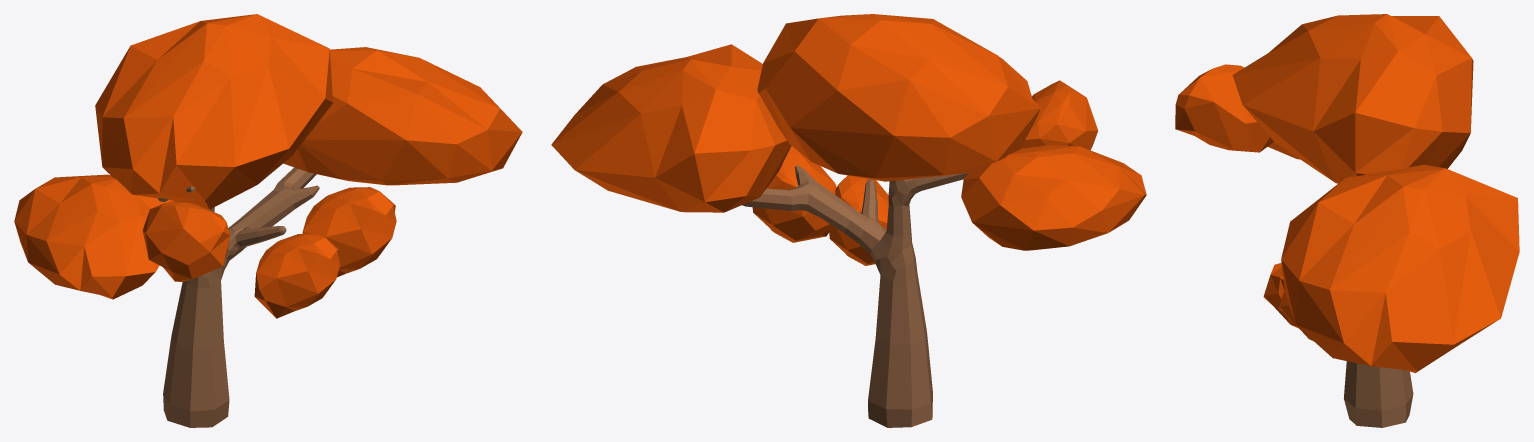
Rendered from tree-autumn-complete-5-009.glb.
3 views of the same model, side by side, from view 1: azimuth 30°, elevation 25°; view 2: azimuth 150°, elevation 25°; view 3: azimuth 270°, elevation 25° (orthographic). The views are drawn at different scales.
Parts seen in each view (by area): view 1: TREE 5.003_399, TREE 5.002_400; view 2: TREE 5.003_399, TREE 5.002_400; view 3: TREE 5.003_399, TREE 5.002_400.
Boxes of the visible parts, box(x1,y1,x2,y2) form: TREE 5.003_399: box(14, 14, 522, 318); TREE 5.002_400: box(157, 167, 319, 427); TREE 5.003_399: box(551, 14, 1146, 265); TREE 5.002_400: box(742, 165, 968, 427); TREE 5.003_399: box(1175, 14, 1519, 373); TREE 5.002_400: box(1343, 361, 1413, 427).
Bounding box in the file's own units: 1.99 × 1.48 × 1.12.
